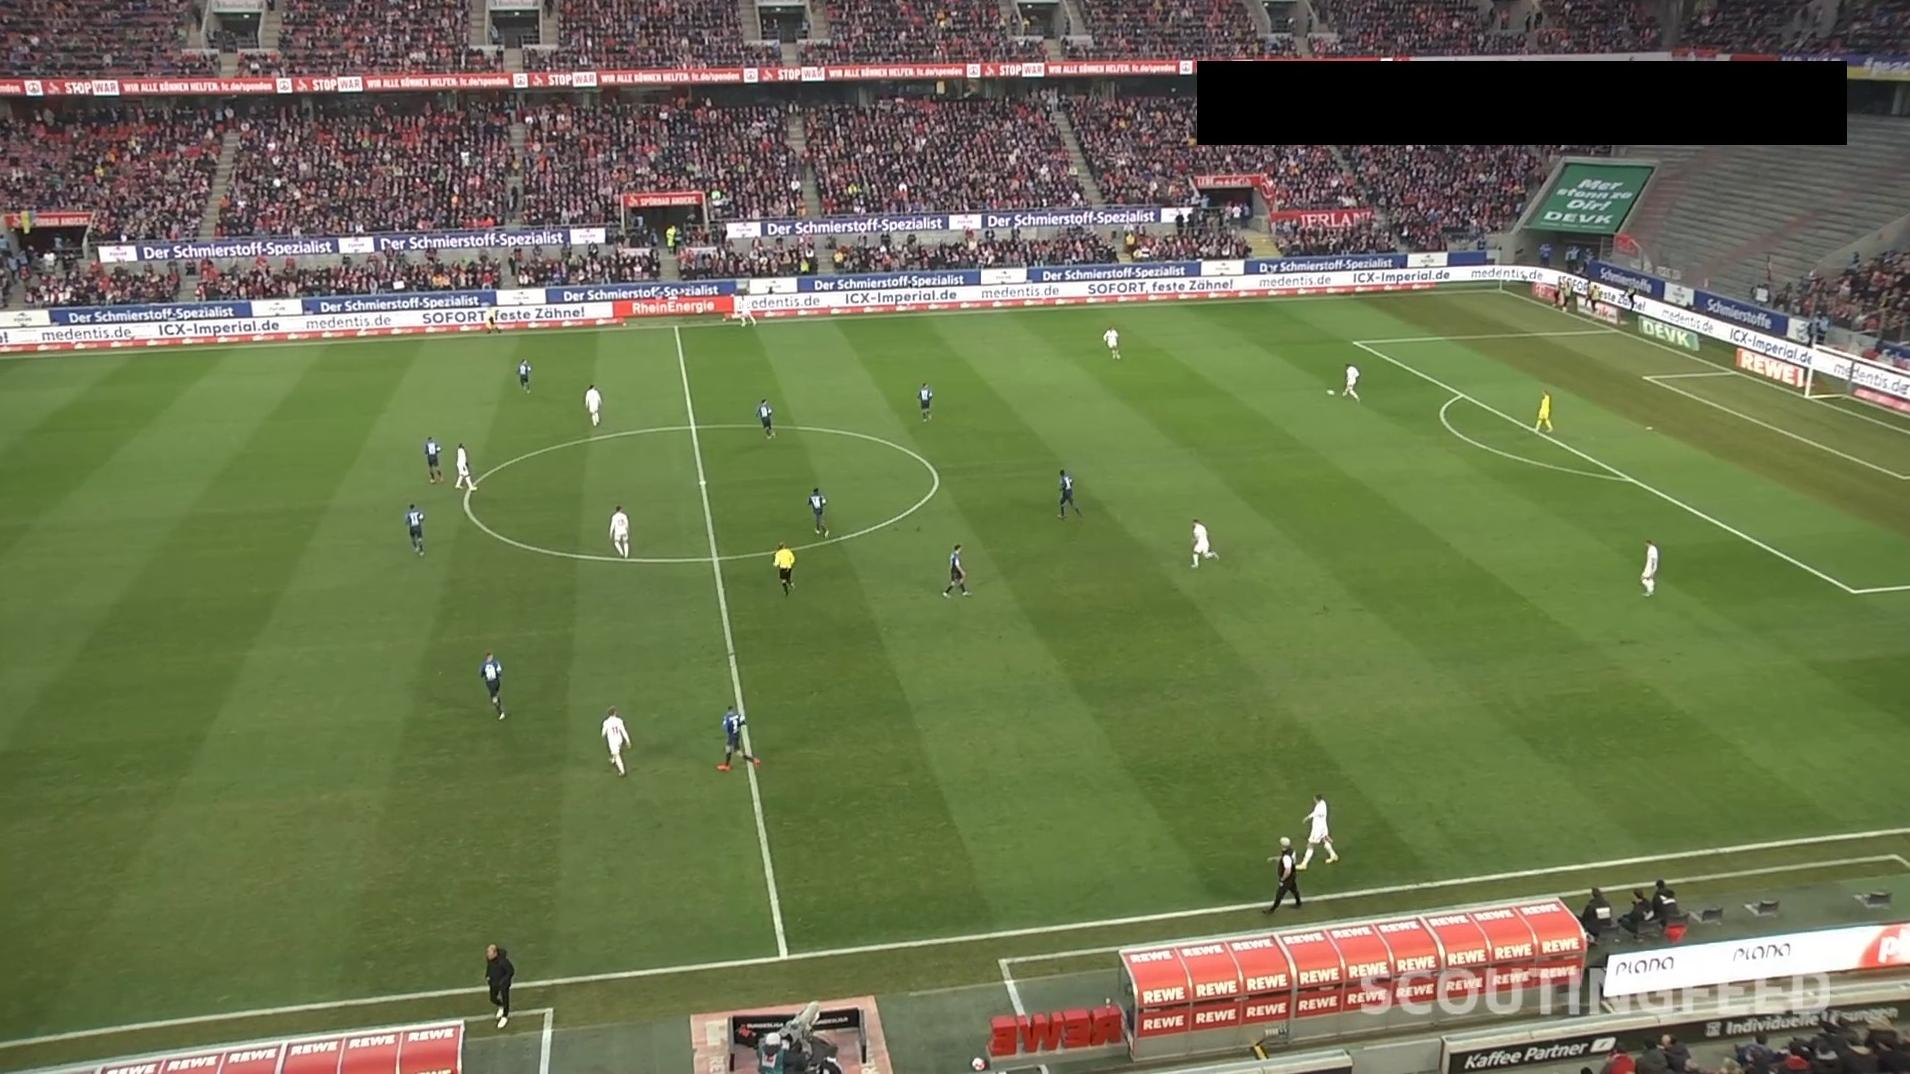ball: (1325, 387, 1335, 396)
